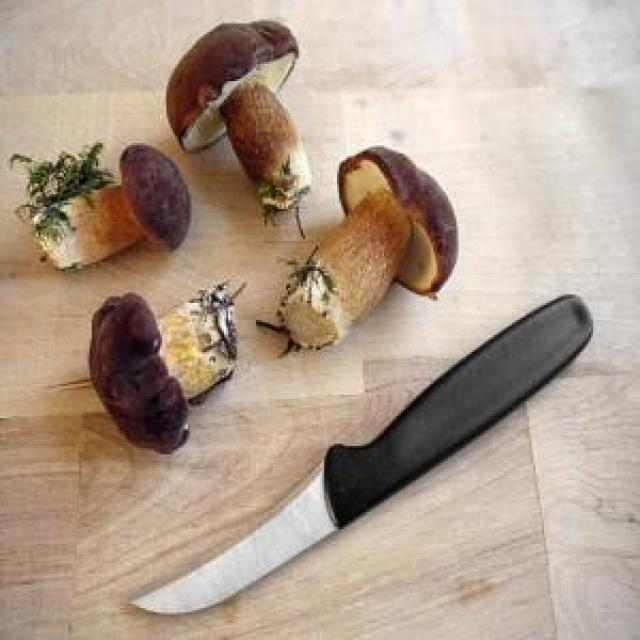knife: (124, 280, 594, 626)
